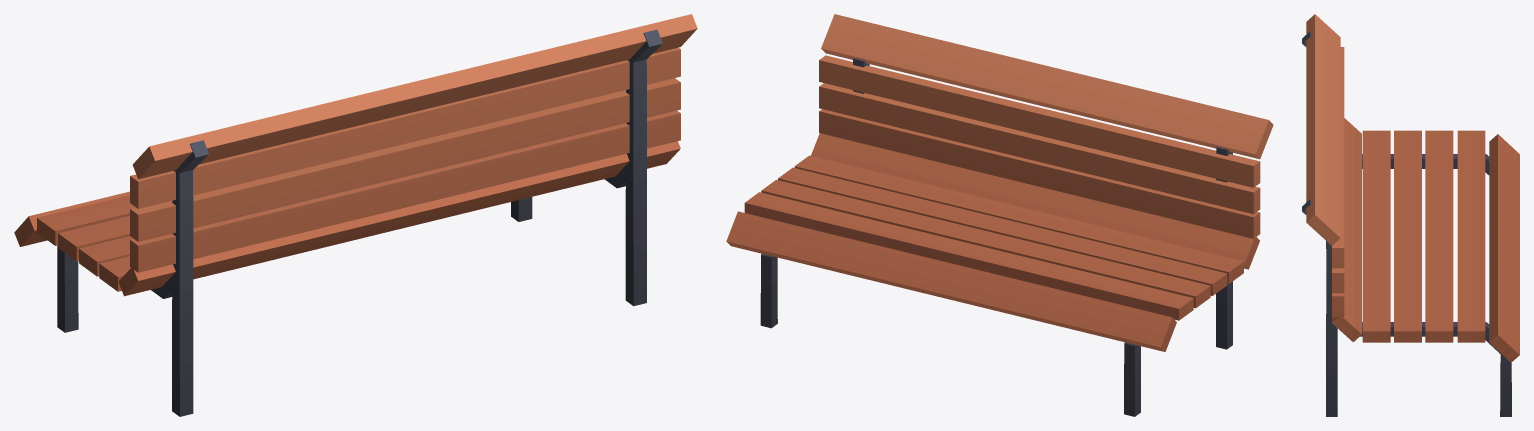
Rendered from benchPark.fbx.
3 renders of one model, left to right at view 1: azimuth 30°, elevation 25°; view 2: azimuth 150°, elevation 25°; view 3: azimuth 270°, elevation 25°, orthographic. The views are drawn at different scales.
Visible parts, largest first — view 1: benchPark; view 2: benchPark; view 3: benchPark.
Part boxes in pixels (x1,y1,x2,y2): benchPark: [14, 14, 697, 416]; benchPark: [726, 14, 1273, 416]; benchPark: [1302, 14, 1519, 416].
Bounding box in the file's own units: 1 × 0.4587 × 0.5019.
